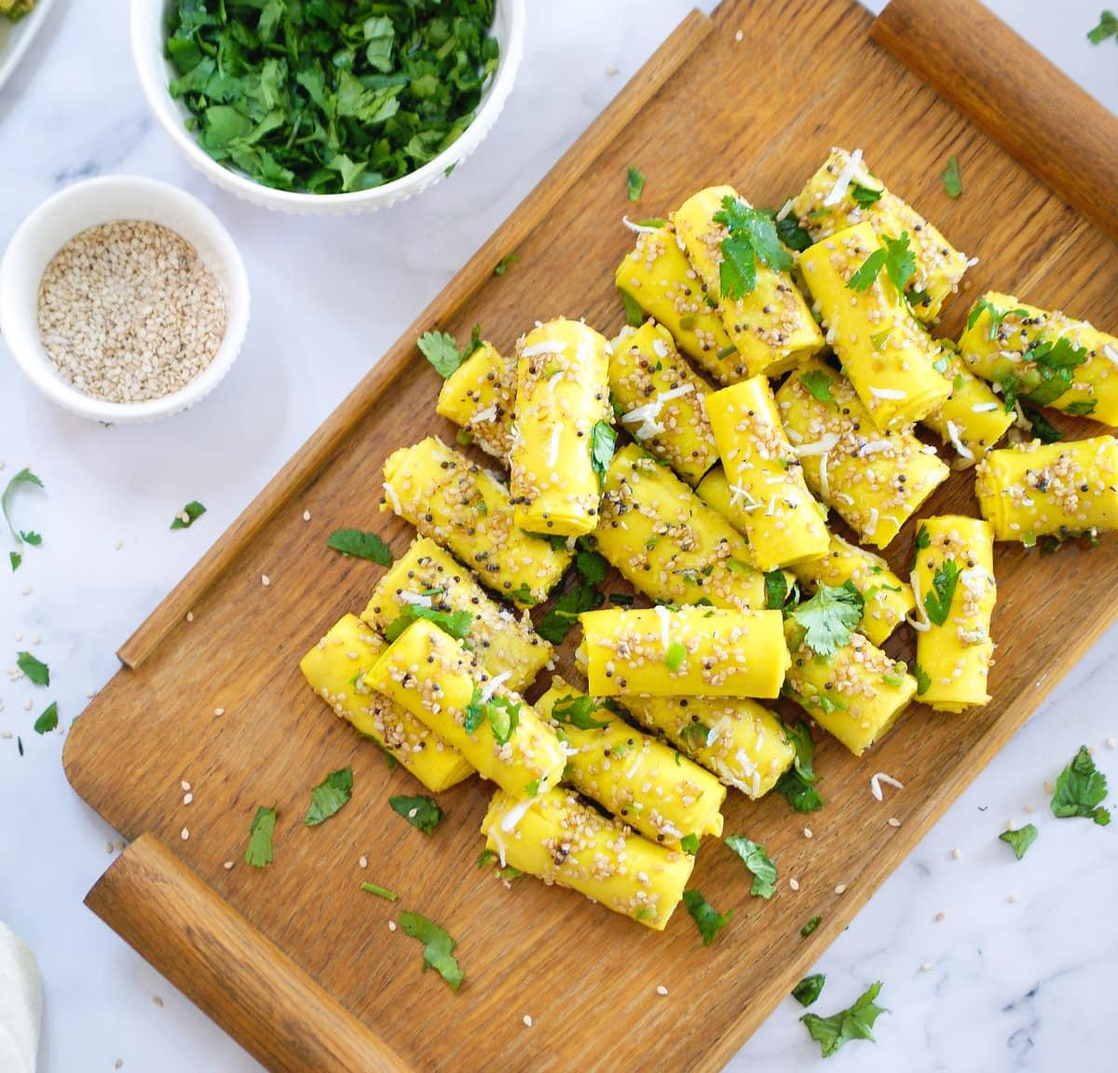khandvi: (348, 155, 1115, 950)
